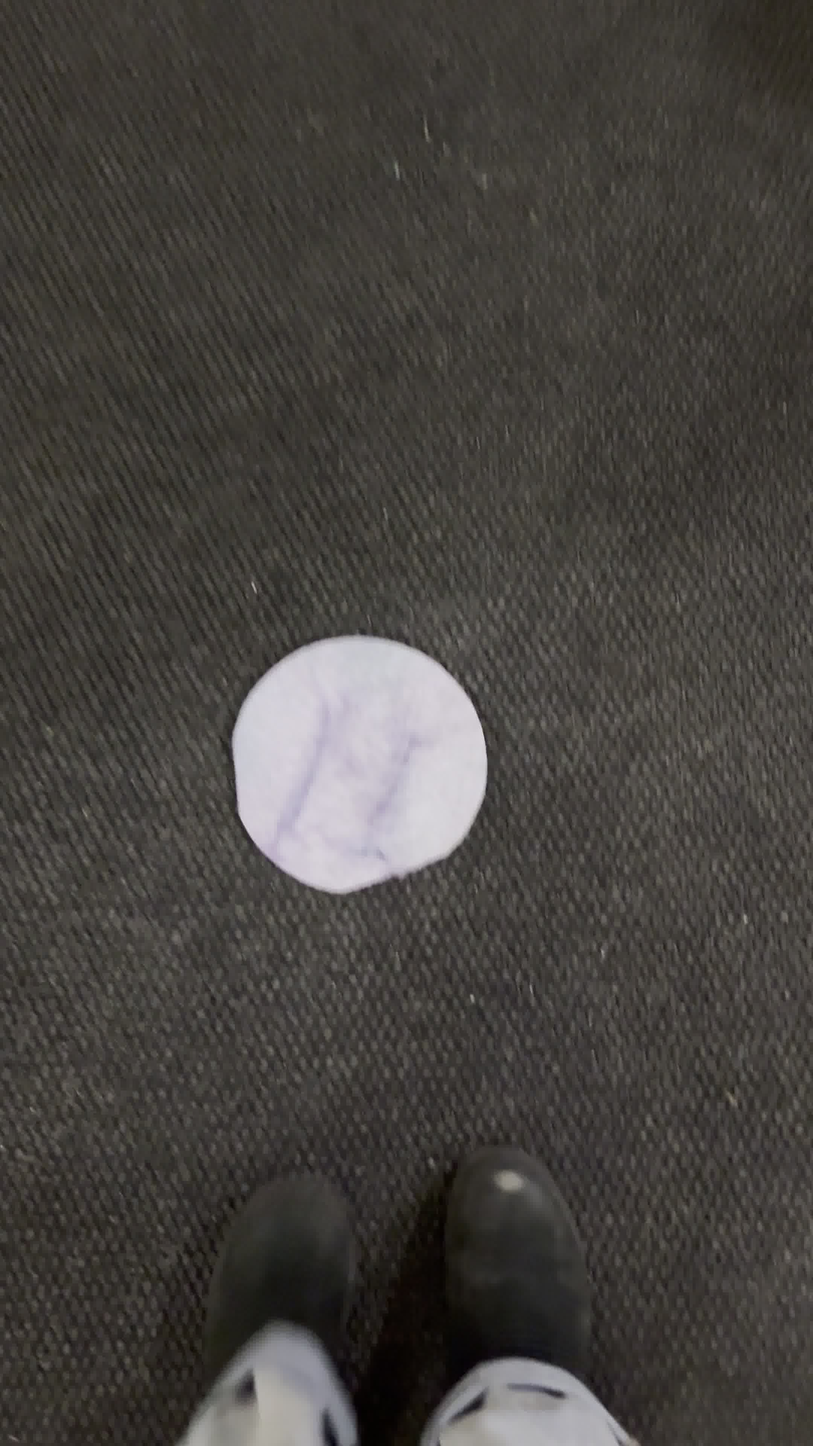Target: (234, 637, 486, 895)
